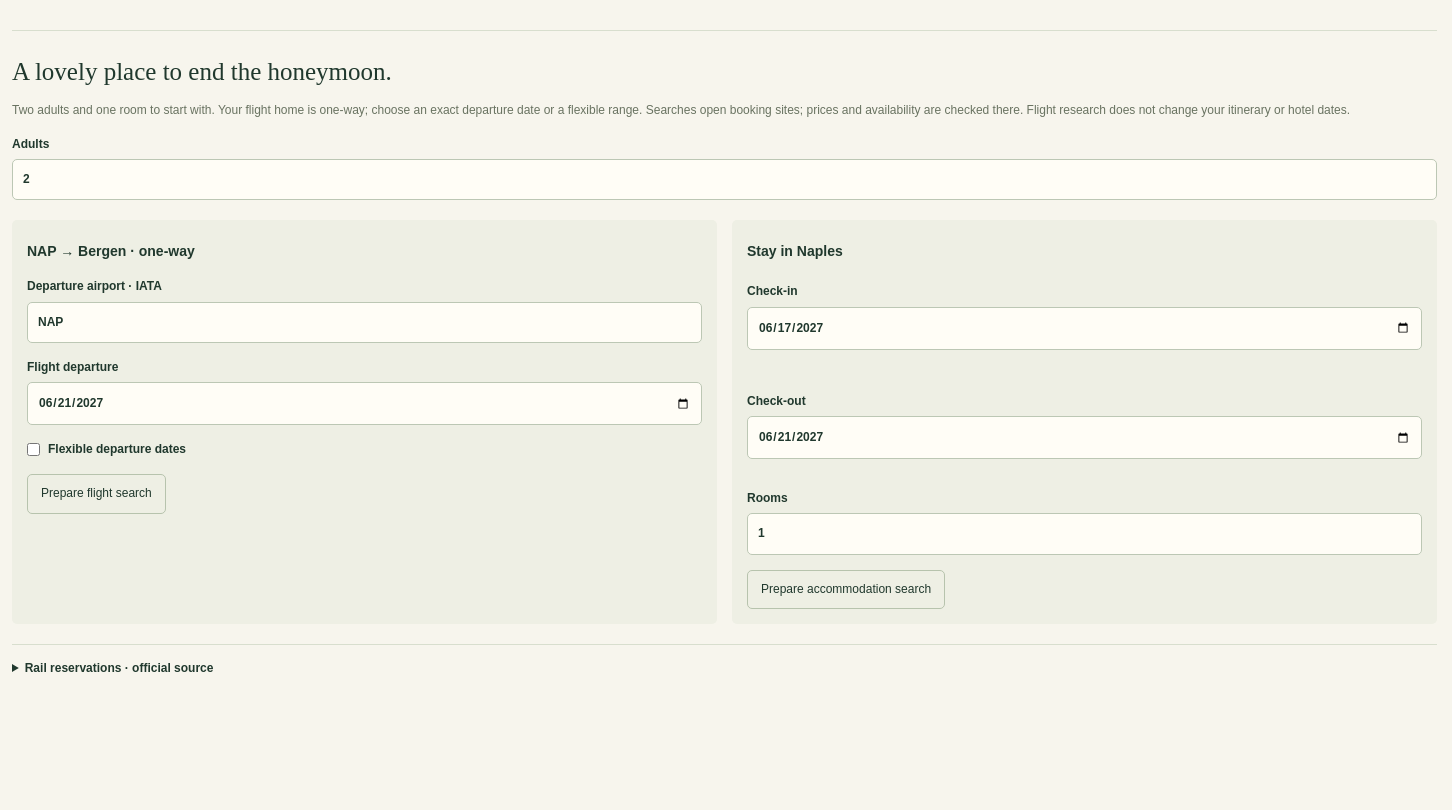
prepares a flexible one-way departure range without changing hotel dates
Click the checkbox labelled "Flexible departure dates". click: (34, 450)
box: [27,443,40,456]
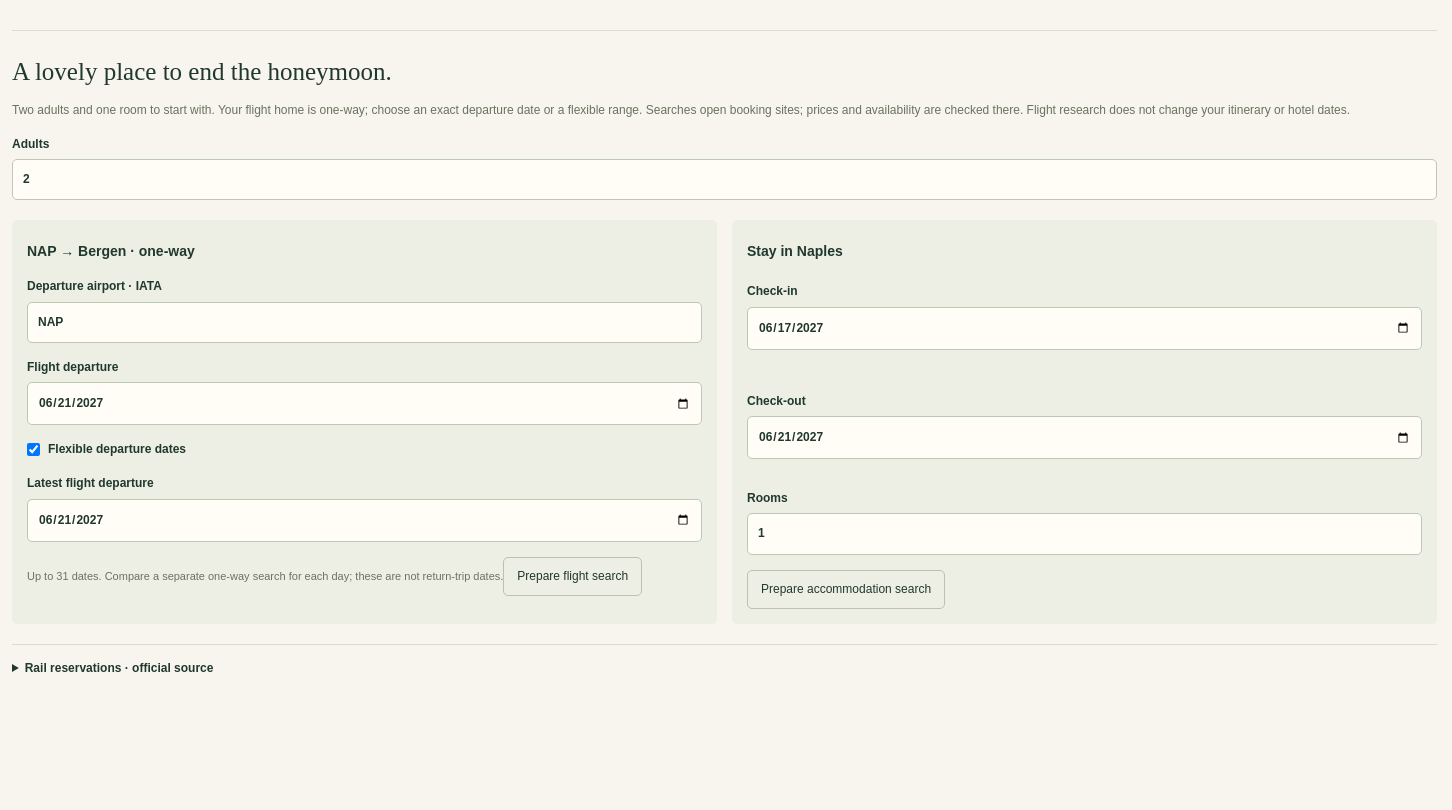
Type "2027-06-23" into the date field labelled "Latest flight departure". click: (364, 520)
box: [27,499,702,542]
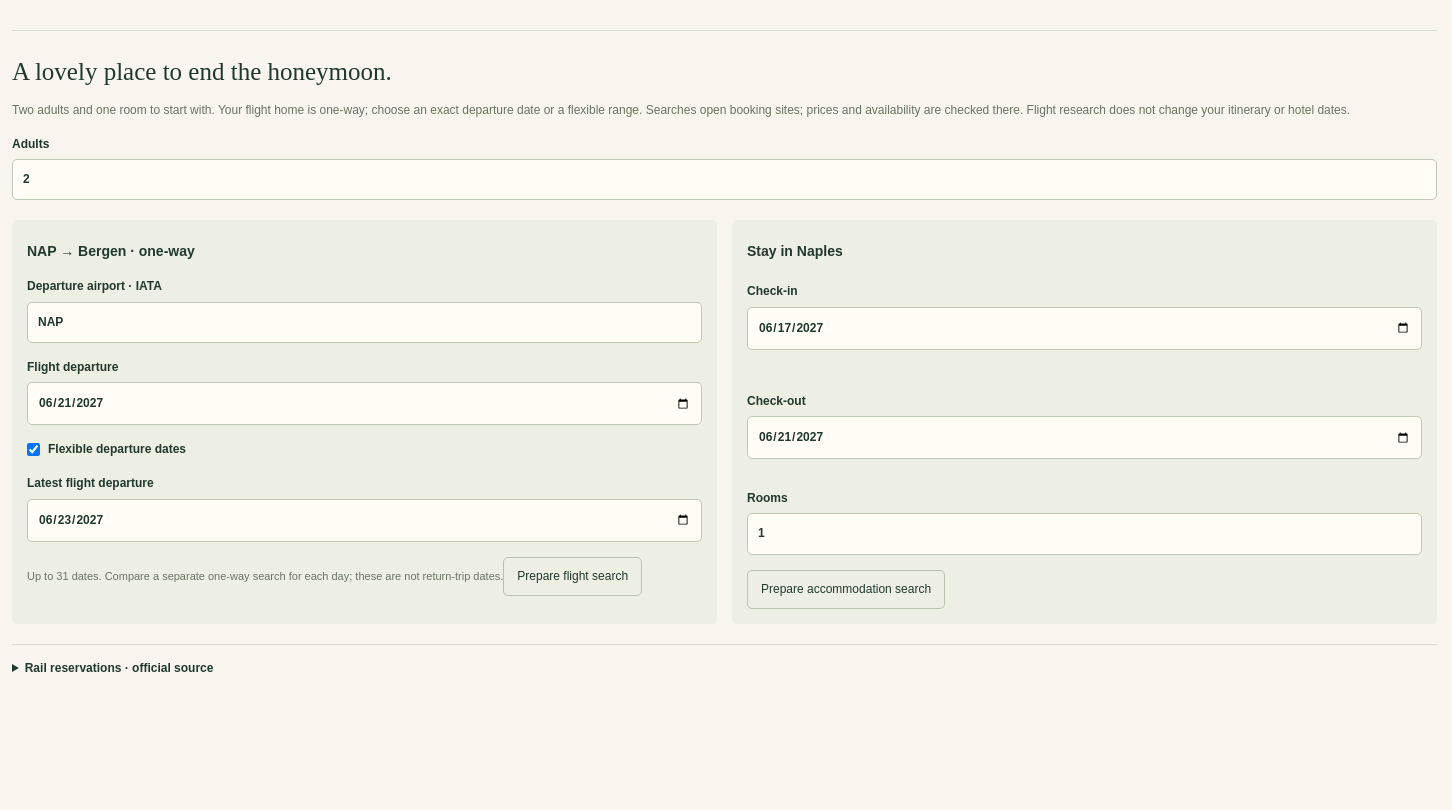
Click the button "Prepare flight search". click: (573, 576)
box: [503,557,642,596]
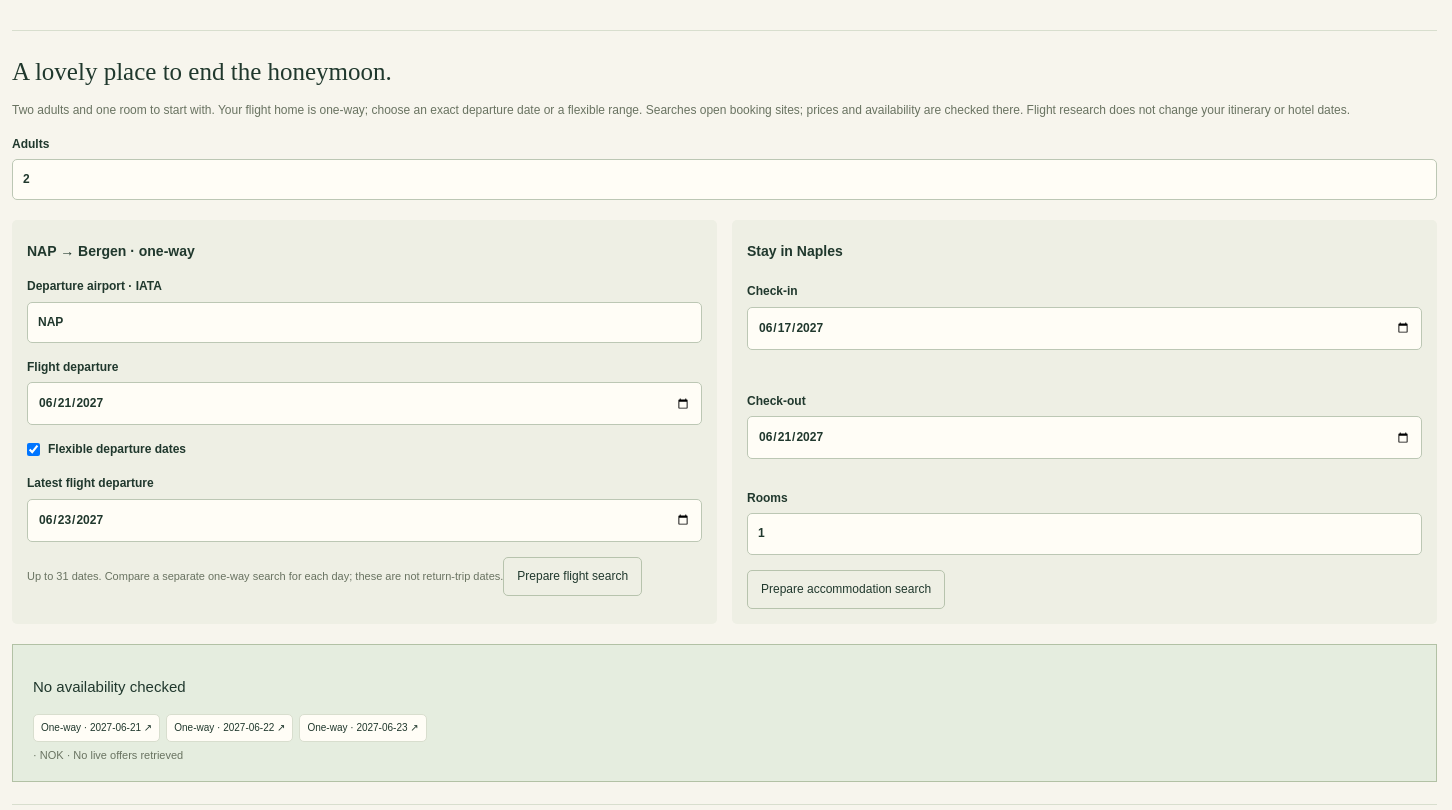
Expected: the date field labelled "Check-out" holds "2027-06-21", [747,416,1422,459]
Now the link "One-way · 2027-06-22 ↗" is shown, box [166,714,293,742]
Type "2027-06-24" into the date field labelled "Latest flight departure". click: (364, 520)
box: [27,499,702,542]
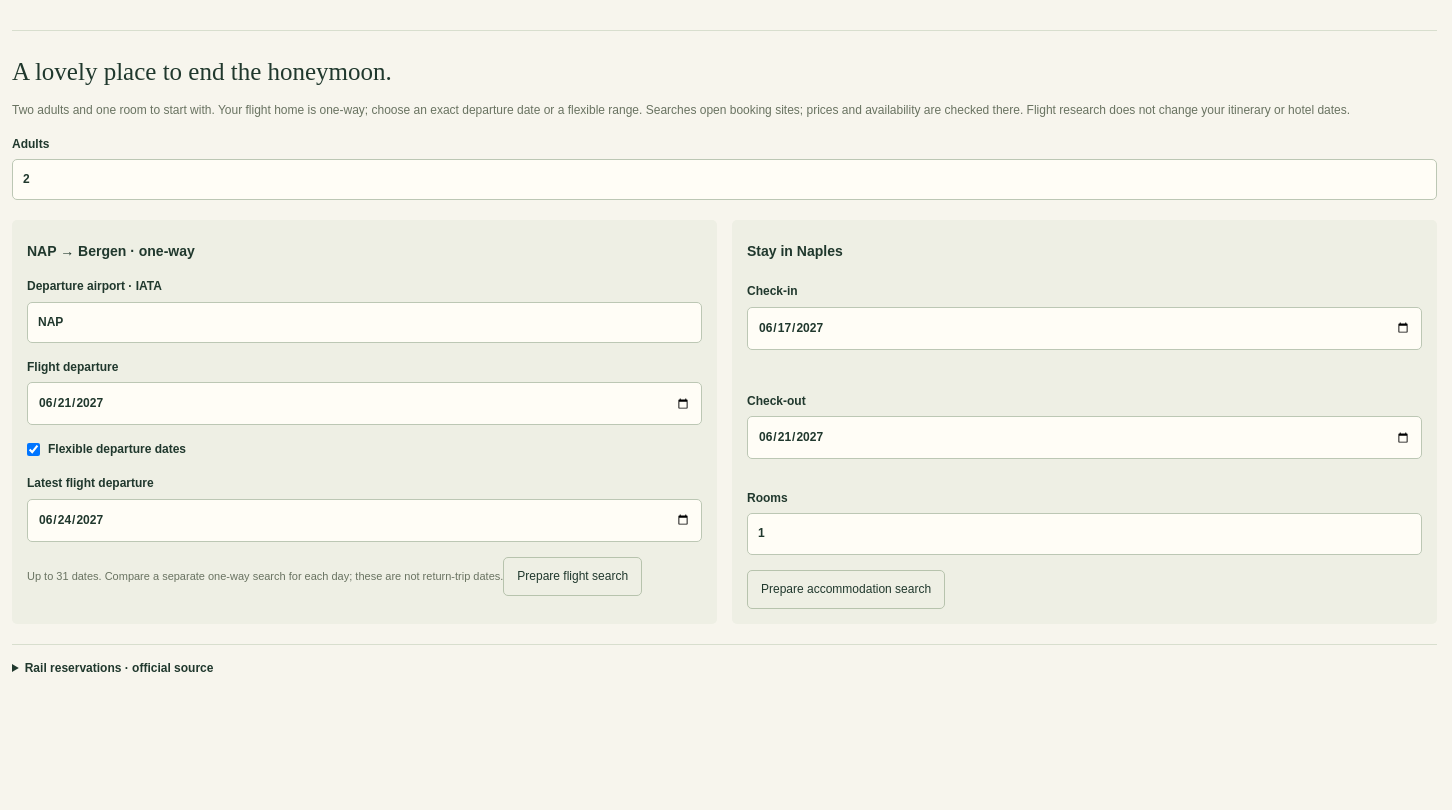
Now the link "One-way · 2027-06-22 ↗" is gone
